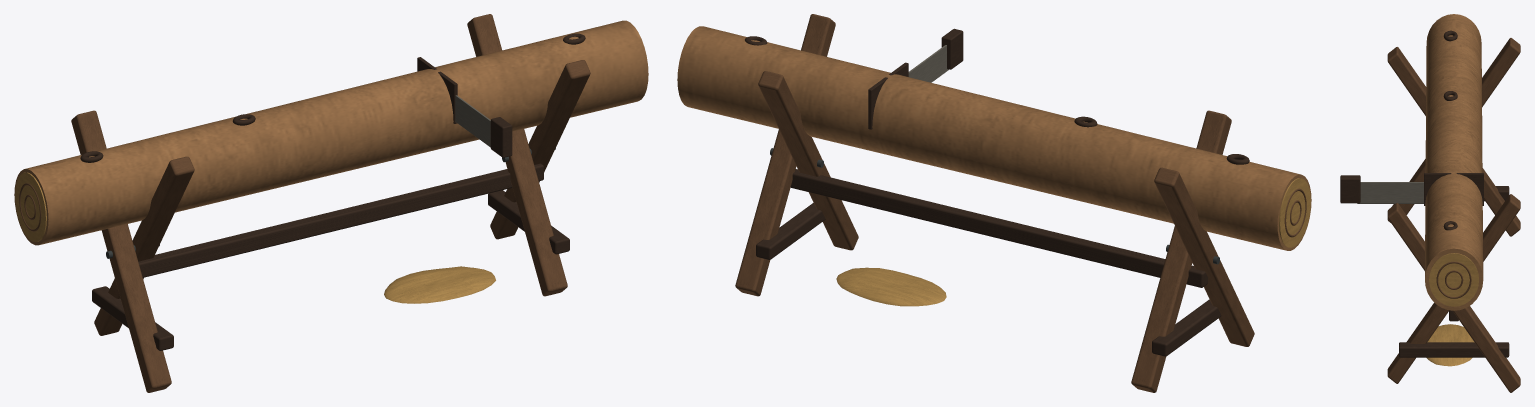
Rendered from sawhorse.glb.
3 views of the same model, side by side, from view 1: azimuth 30°, elevation 25°; view 2: azimuth 150°, elevation 25°; view 3: azimuth 270°, elevation 25° (orthographic). The views are drawn at different scales.
Parts seen in each view (by area): view 1: sawhorse; view 2: sawhorse; view 3: sawhorse.
Part boxes in pixels (box(x1,y1,x2,y2)): sawhorse: box(14, 14, 648, 392); sawhorse: box(677, 14, 1311, 392); sawhorse: box(1340, 14, 1520, 392).
Size of the model in its own units: 2.5 by 0.9 by 0.8.
1 material, 1 textured.
